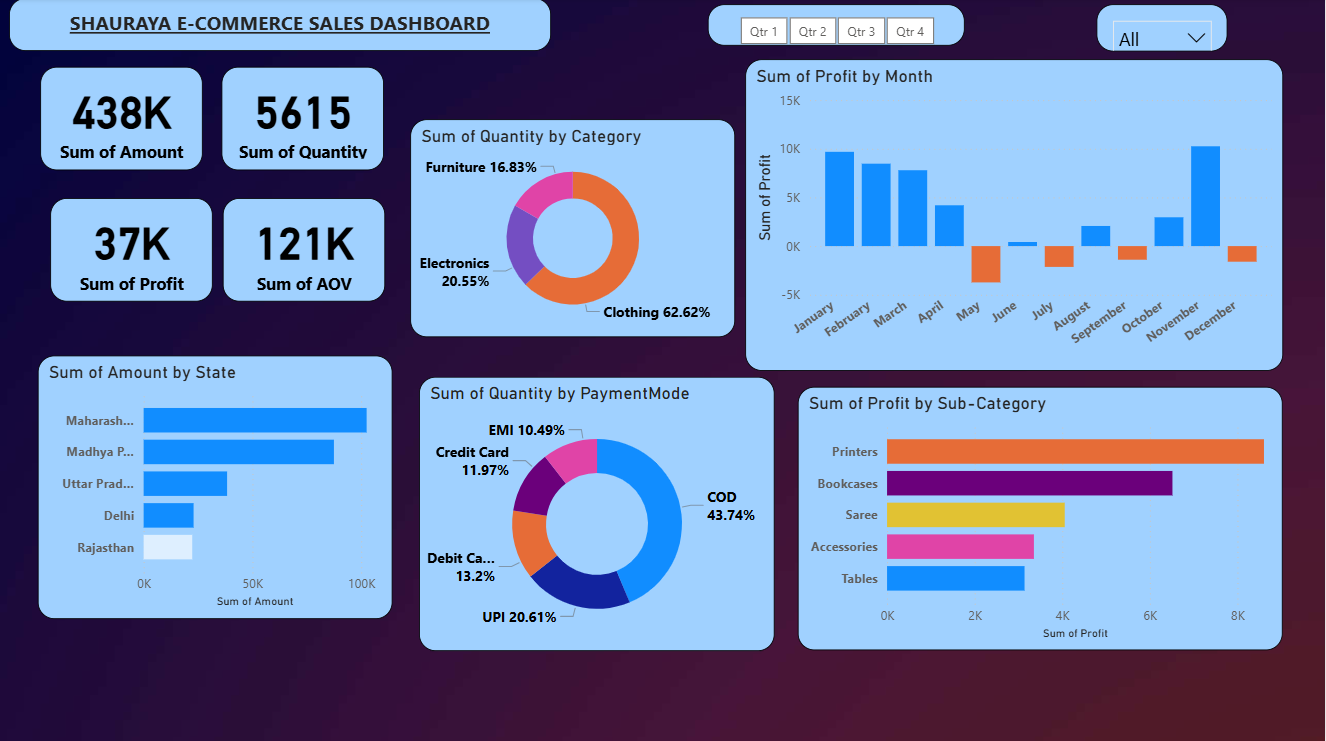

What the dashboard file says about the page in this screenshot:
{"tool":"powerbi","page":{"name":"Page 1","canvas":[1280,720],"ordinal":0},"visuals":[{"type":"textbox","box":[10,0,523.3,51.1],"z":0},{"type":"columnChart","fields":{"Category":["Orders.Order Date.Variation.Date Hierarchy.Month"],"Y":["Sum(Details.Profit)"]},"box":[720,58.9,518.9,301.1],"z":1000},{"type":"barChart","fields":{"Category":["Details.Sub-Category"],"Y":["Sum(Details.Profit)"]},"box":[771.1,375.6,467.8,254.4],"z":2000},{"type":"donutChart","fields":{"Category":["Details.Category"],"Y":["Sum(Details.Quantity)"]},"box":[396.7,116.7,313.3,210],"z":3000},{"type":"donutChart","fields":{"Category":["Details.PaymentMode","Details.Category"],"Y":["Sum(Details.Quantity)"]},"box":[405.6,365.6,343.3,264.4],"z":4000},{"type":"card","fields":{"Values":["Sum(Details.Amount)"]},"box":[40,66.7,156.7,100],"z":5000},{"type":"card","fields":{"Values":["Sum(Details.Quantity)"]},"box":[214.4,66.7,156.7,100],"z":6000},{"type":"card","fields":{"Values":["Sum(Details.Profit)"]},"box":[48.9,193.3,156.7,100],"z":7000},{"type":"card","fields":{"Values":["Sum(Details.AOV)"]},"box":[215.6,193.3,156.7,100],"z":8000},{"type":"actionButton","box":[0,0,100,40],"z":9000},{"type":"barChart","fields":{"Category":["Orders.State"],"Y":["Sum(Details.Amount)"]},"box":[37.8,344.4,342.2,254.4],"z":10000},{"type":"slicer","fields":{"Values":["Orders.Order Date.Variation.Date Hierarchy.Quarter"]},"box":[684.4,5.6,247.8,40],"z":11000},{"type":"slicer","fields":{"Values":["Orders.State"]},"box":[1058.9,5.6,126.7,45.6],"z":12000}]}

Visuals, with their boxes in screenshot pixels (x1, y1, x2, y2), scaled from the page's 1280x720 canvas onto the 1326x741 screenshot:
textbox: x1=10 y1=0 x2=552 y2=53
columnChart - Orders.Order Date.Variation.Date Hierarchy.Month x Sum(Details.Profit): x1=746 y1=61 x2=1283 y2=370
barChart - Details.Sub-Category x Sum(Details.Profit): x1=799 y1=387 x2=1283 y2=648
donutChart - Details.Category x Sum(Details.Quantity): x1=411 y1=120 x2=736 y2=336
donutChart - Details.PaymentMode x Details.Category: x1=420 y1=376 x2=776 y2=648
card - Sum(Details.Amount): x1=41 y1=69 x2=204 y2=172
card - Sum(Details.Quantity): x1=222 y1=69 x2=384 y2=172
card - Sum(Details.Profit): x1=51 y1=199 x2=213 y2=302
card - Sum(Details.AOV): x1=223 y1=199 x2=386 y2=302
actionButton: x1=0 y1=0 x2=104 y2=41
barChart - Orders.State x Sum(Details.Amount): x1=39 y1=354 x2=394 y2=616
slicer - Orders.Order Date.Variation.Date Hierarchy.Quarter: x1=709 y1=6 x2=966 y2=47
slicer - Orders.State: x1=1097 y1=6 x2=1228 y2=53
